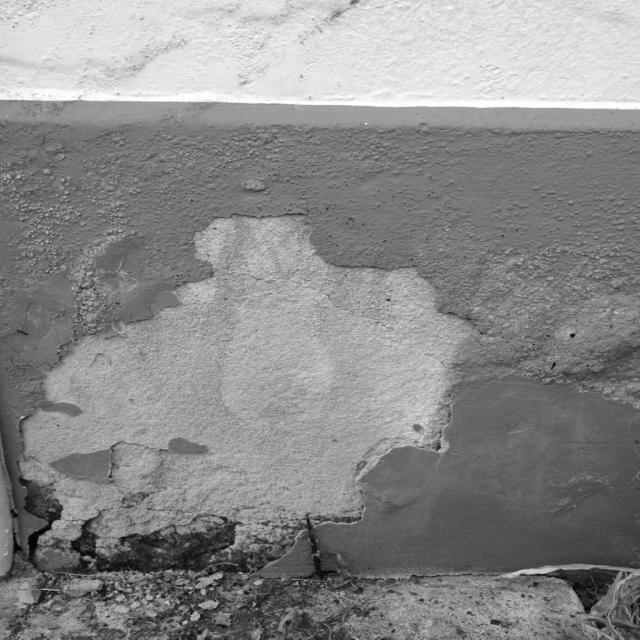peeling paint: (0, 198, 640, 572)
